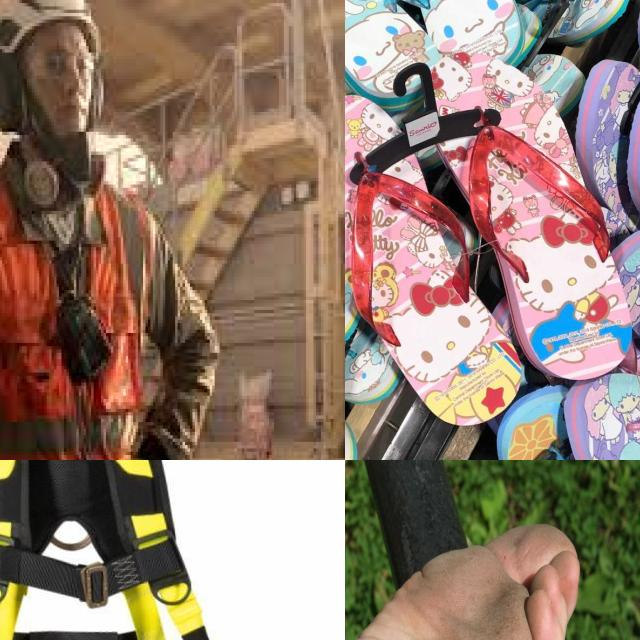Barefoots: (345, 523, 580, 640)
Ear-protection: (0, 49, 36, 135), (88, 59, 104, 135)
Harness: (0, 460, 210, 640)
Sandals: (345, 38, 640, 435), (345, 0, 537, 105)
glasses: (15, 36, 101, 79)
hand_glove: (127, 447, 172, 460)
head_helmet: (0, 0, 106, 49)
person: (0, 0, 217, 460)
